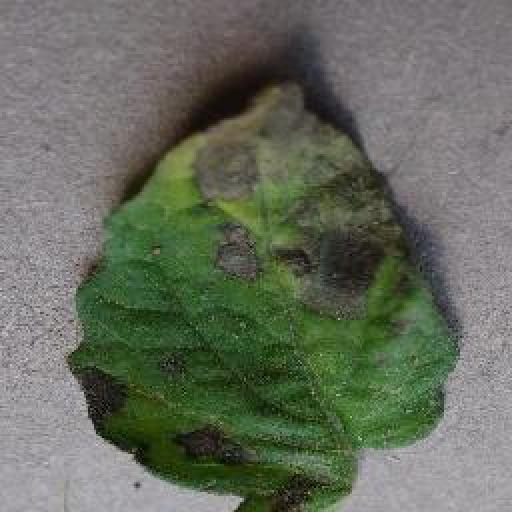disease_tomato: (66, 80, 458, 512)
